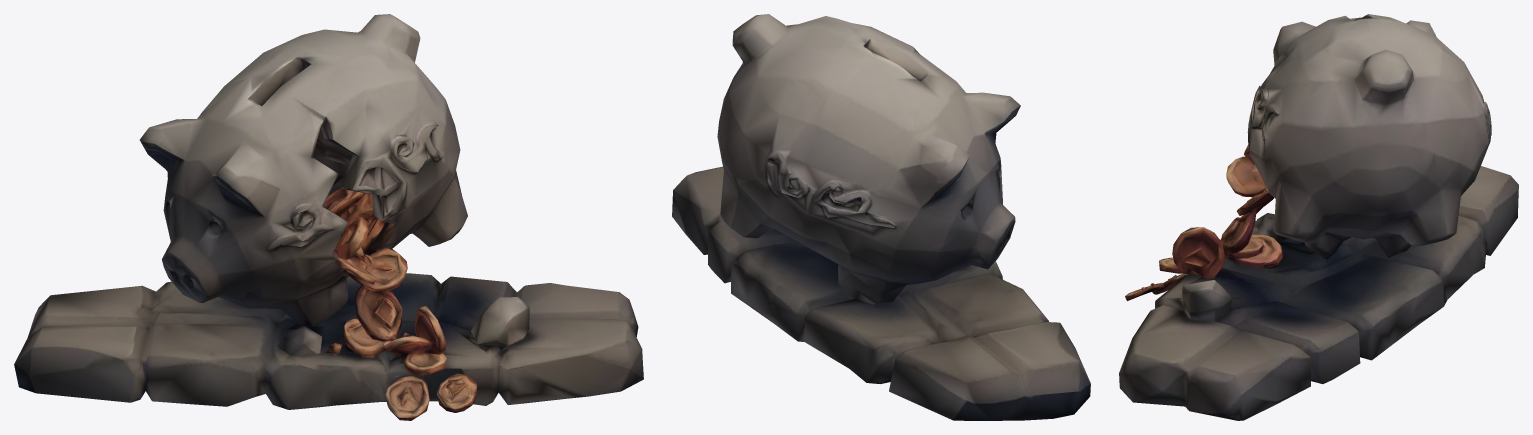
File: ss_jiesha.glb
3 renders of one model, left to right at view 1: azimuth 30°, elevation 25°; view 2: azimuth 150°, elevation 25°; view 3: azimuth 270°, elevation 25°, orthographic. The views are drawn at different scales.
Visible parts, largest first — view 1: tripo_node_8d4163ea-2f66-4ce5-8bd6-4b624f980e89; view 2: tripo_node_8d4163ea-2f66-4ce5-8bd6-4b624f980e89; view 3: tripo_node_8d4163ea-2f66-4ce5-8bd6-4b624f980e89.
Boxes of the visible parts, left/top/right/bottom form: tripo_node_8d4163ea-2f66-4ce5-8bd6-4b624f980e89: left=14, top=14, right=643, bottom=420; tripo_node_8d4163ea-2f66-4ce5-8bd6-4b624f980e89: left=672, top=14, right=1090, bottom=420; tripo_node_8d4163ea-2f66-4ce5-8bd6-4b624f980e89: left=1119, top=14, right=1518, bottom=420.
Bounding box in the file's own units: 0.9998 × 0.5672 × 0.6894.
1 material, 1 textured.
